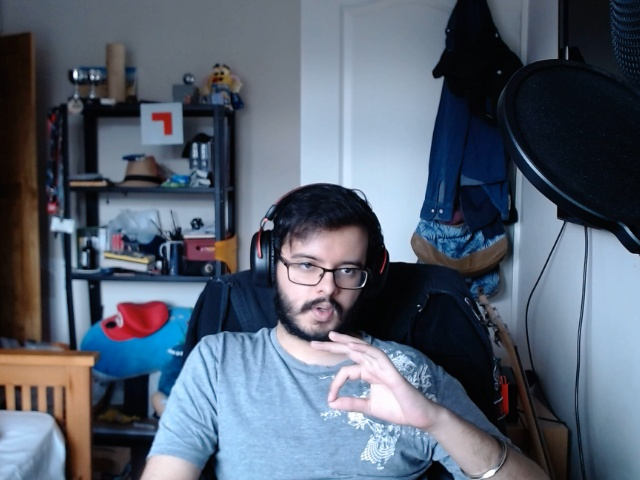Okay: (311, 326, 437, 437)
